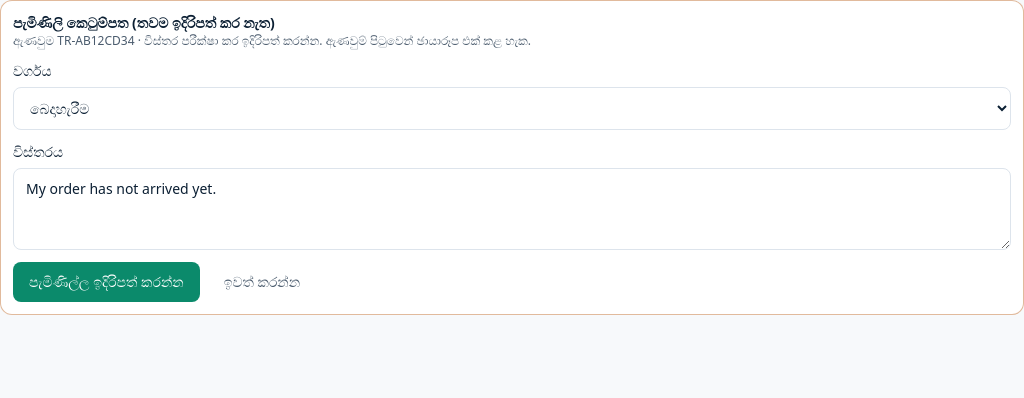
ComplaintDraftCard › shows API errors in the user's language
Click the button "පැමිණිල්ල ඉදිරිපත් කරන්න" at {"x": 106, "y": 282}, box [13, 262, 200, 302]
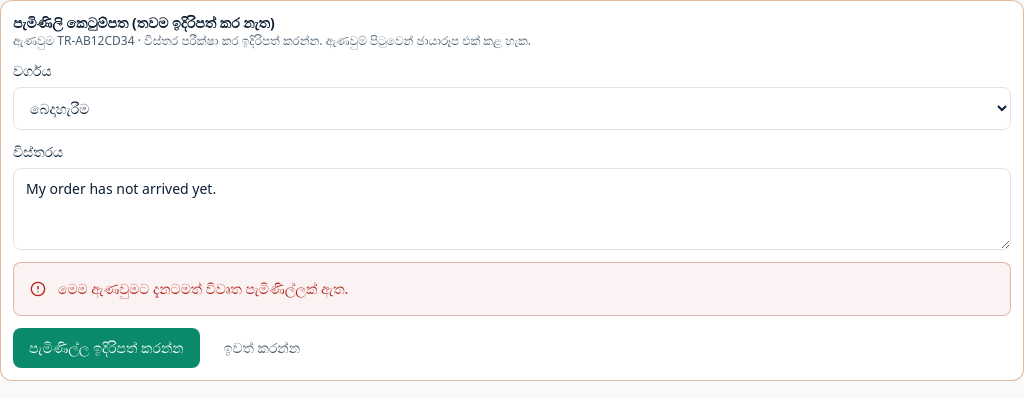
Expected: the text "මෙම ඇණවුමට දැනටමත් විවෘත පැමිණිල්ලක් ඇත." is shown, [58, 279, 348, 299]
